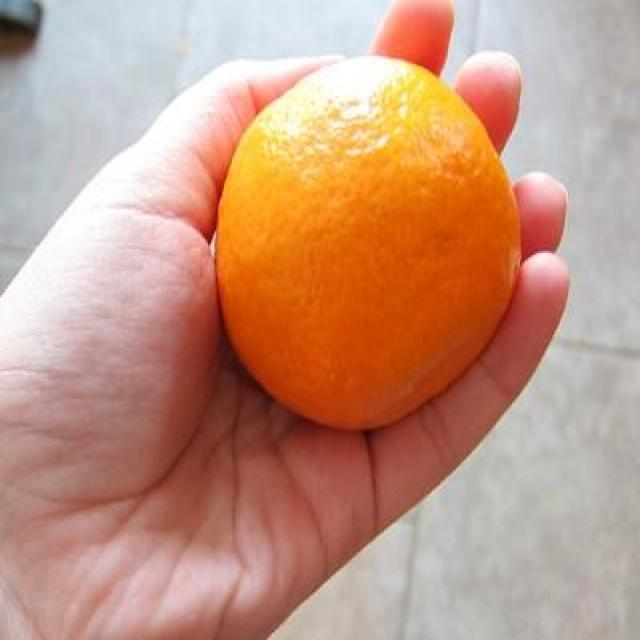10_tangerine: (213, 50, 523, 441)
